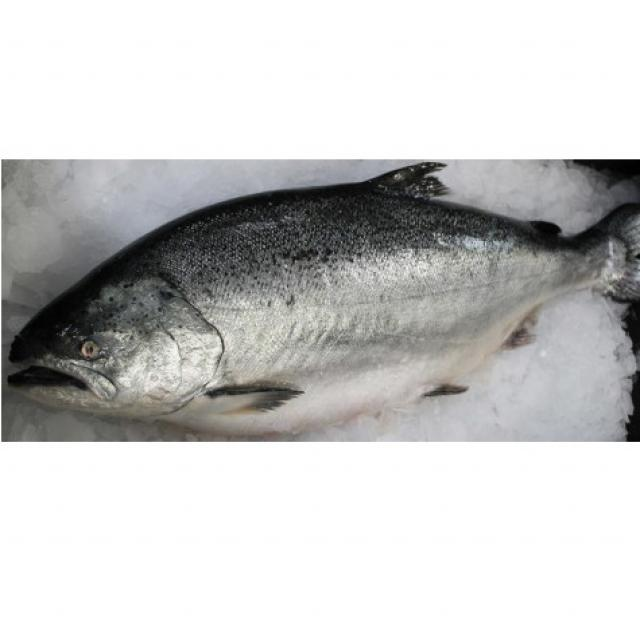grouper: (4, 146, 640, 455)
